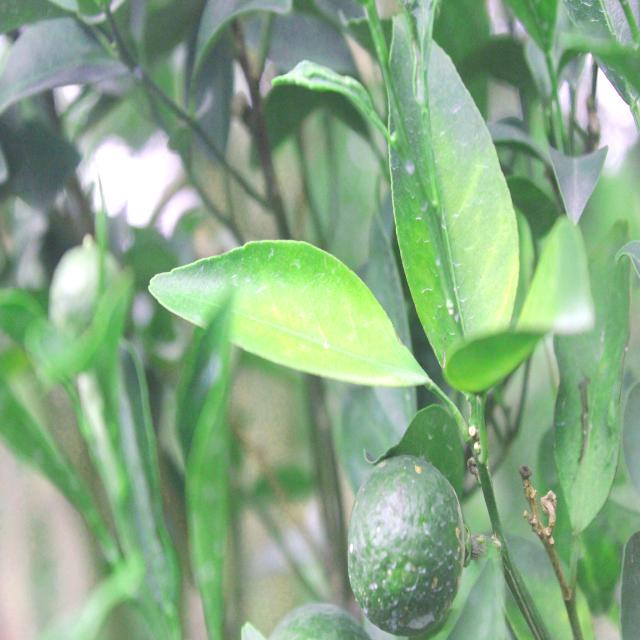greening: (176, 239, 402, 386), (394, 77, 504, 335)
